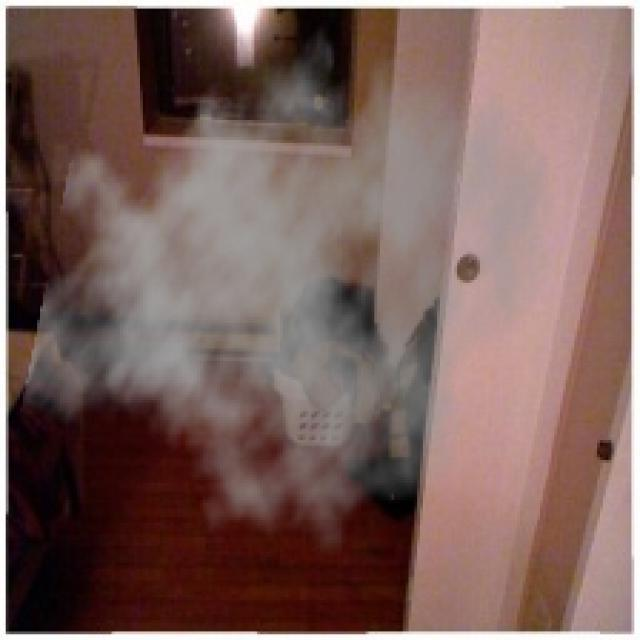Smoke: (20, 2, 560, 558)
